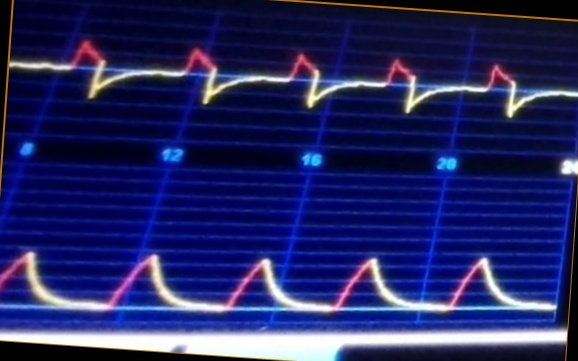Accumulation Flow: (12, 24, 576, 142)
Volume: (1, 223, 552, 324)
